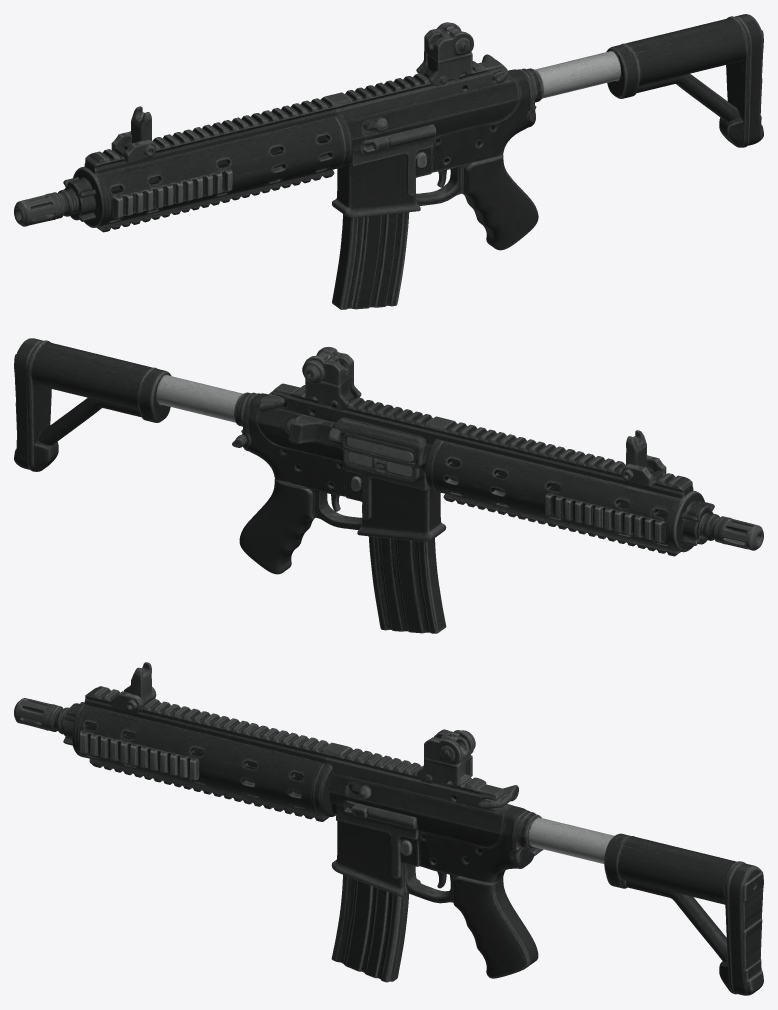
The model's file is carbine.glb.
The picture shows the model from 3 angles, top to bottom: view 1: azimuth 30°, elevation 25°; view 2: azimuth 150°, elevation 25°; view 3: azimuth 330°, elevation 25°; orthographic projection.
Size of the model in its own units: 1.9 by 0.6378 by 0.1719.
Materials: 1 (1 with a texture image).
